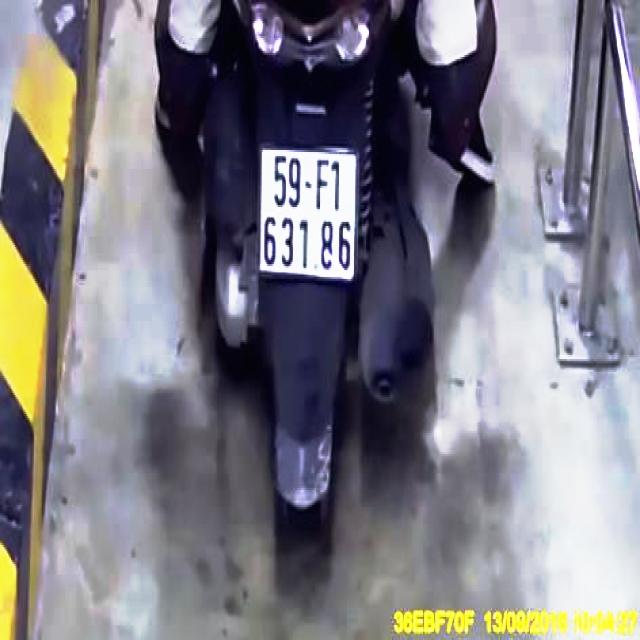license_plate: (260, 149, 362, 279)
